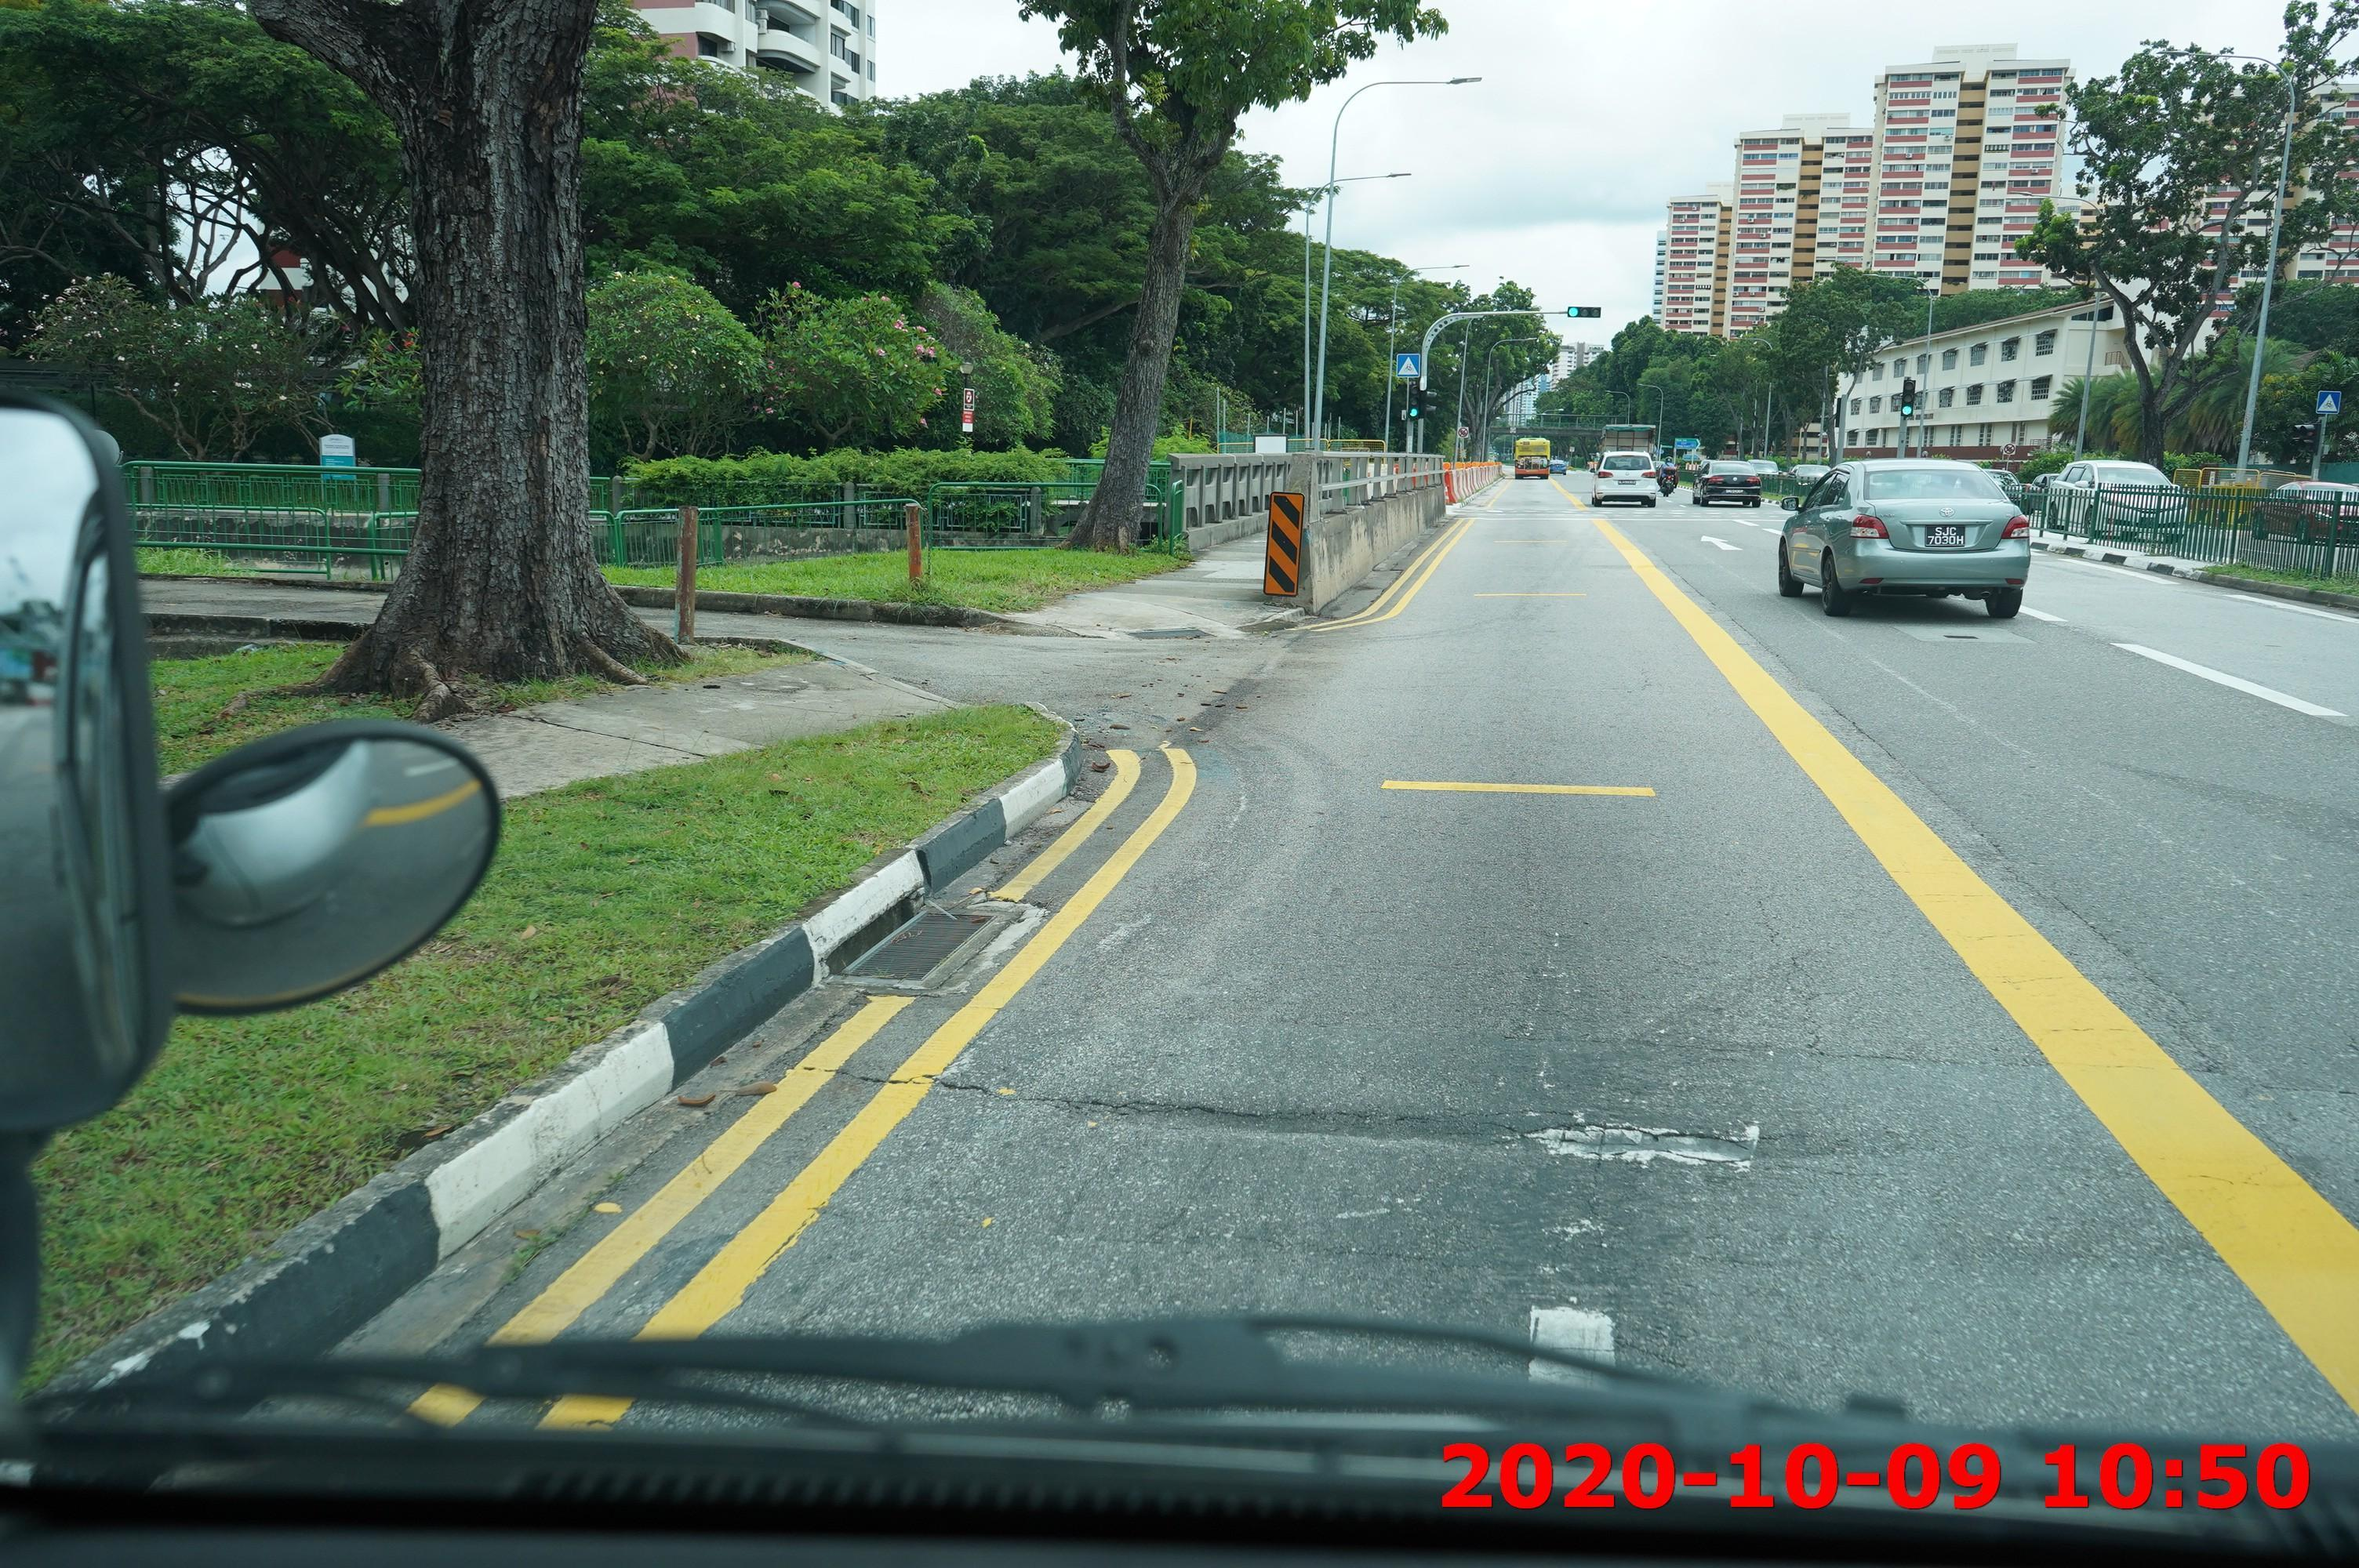peel off with cracks: (1493, 1106, 1804, 1185)
transverse crack: (793, 1055, 1831, 1174)
